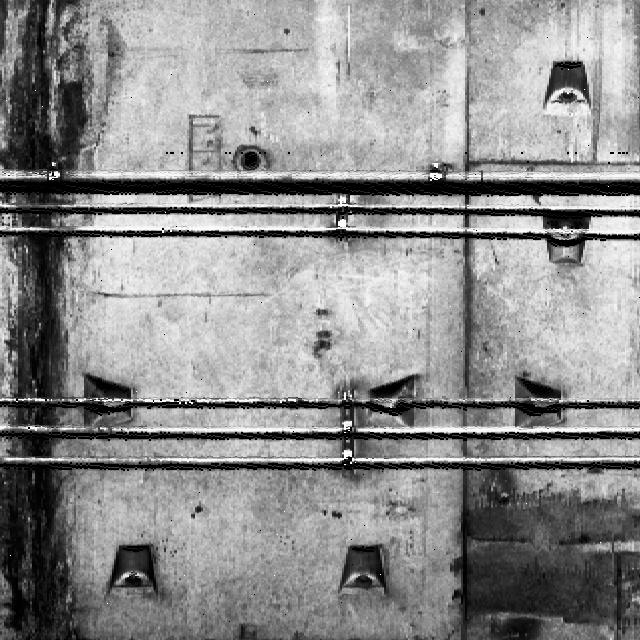leakage: (1, 0, 134, 639), (442, 481, 638, 639)
